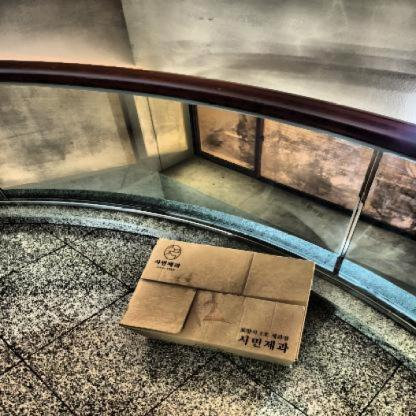box: (122, 232, 318, 376)
